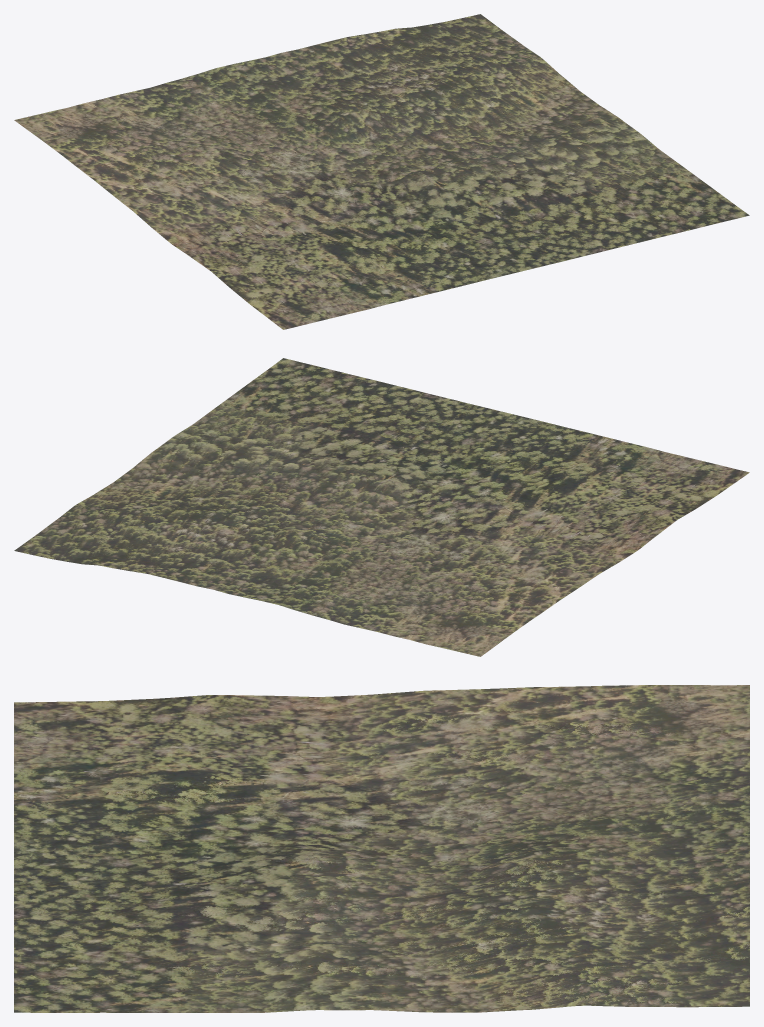
Rendered from CM_Terrain_24493326_6814060.fbx.
3 views of the same model, one above another, from view 1: azimuth 30°, elevation 25°; view 2: azimuth 150°, elevation 25°; view 3: azimuth 270°, elevation 25° (orthographic). The views are drawn at different scales.
Parts seen in each view (by area): view 1: CM_Terrain_24493326_6814060_LOD0; view 2: CM_Terrain_24493326_6814060_LOD0; view 3: CM_Terrain_24493326_6814060_LOD0.
Part boxes in pixels (<box>): CM_Terrain_24493326_6814060_LOD0: <box>14,14,749,329</box>; CM_Terrain_24493326_6814060_LOD0: <box>14,358,749,656</box>; CM_Terrain_24493326_6814060_LOD0: <box>14,685,749,1012</box>.
Size of what is drawn, in the model's own units: 205 by 6.54 by 205.
